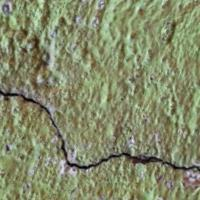crack: (0, 70, 199, 195)
